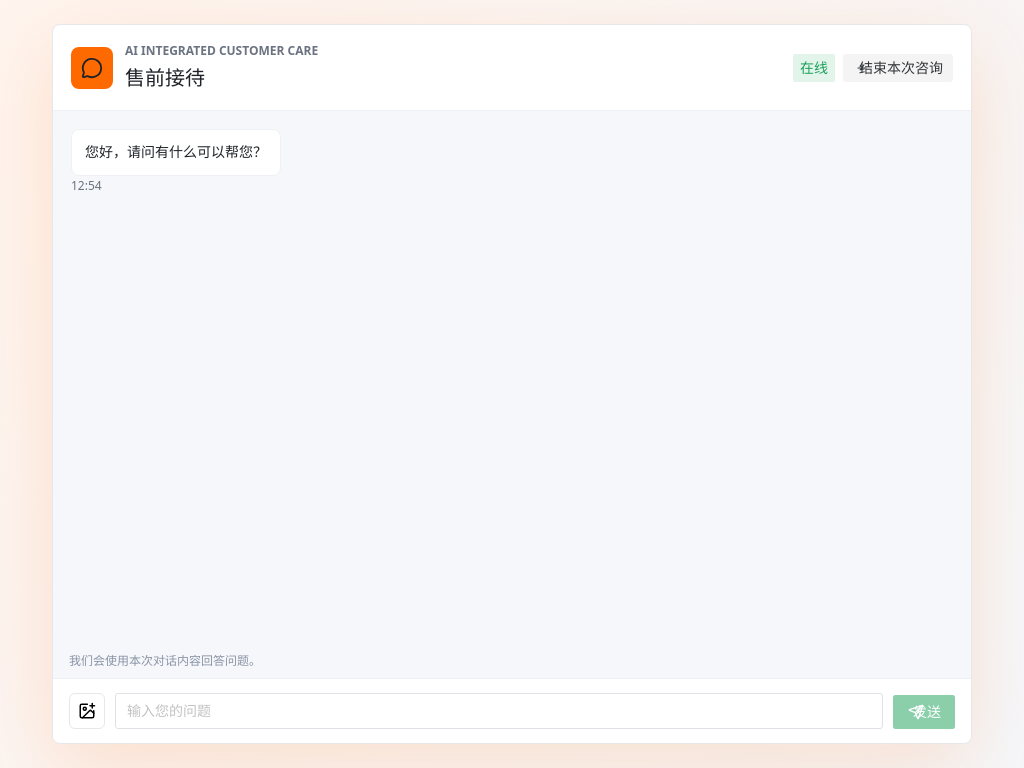
Test: PublicAICCChatPage › ends the current consultation instead of starting a new conversation
This screenshot has width=1024, height=768.
In the text box with placeholder "输入您的问题": (499, 711) [127, 693, 871, 729], type "旧会话消息"
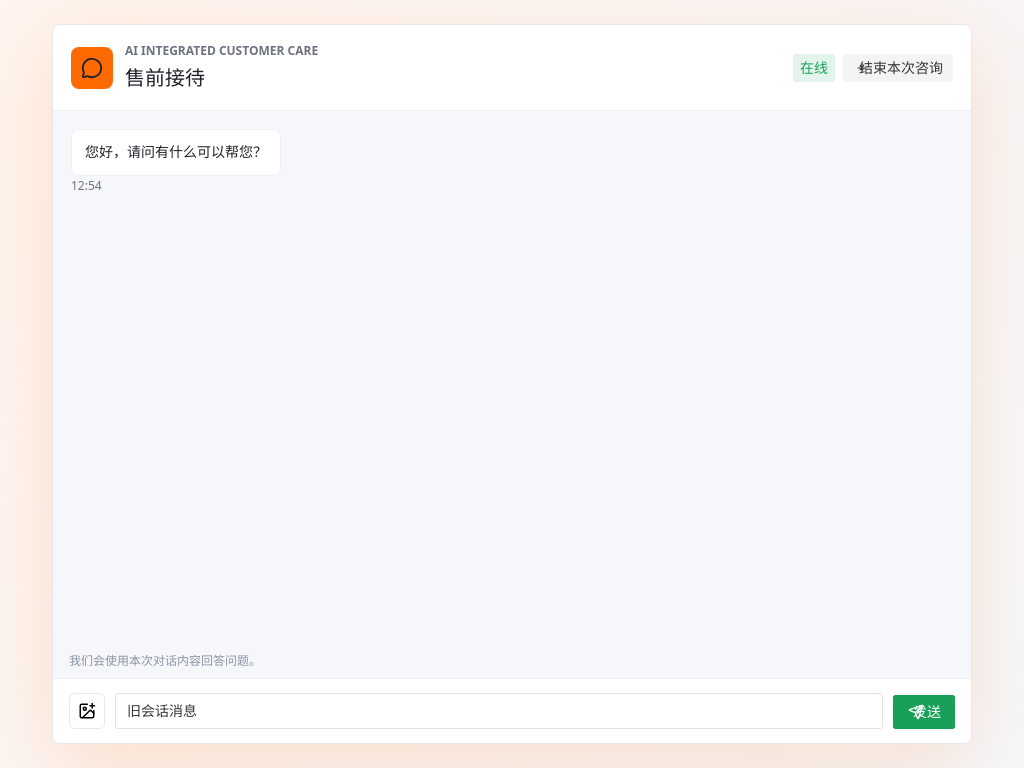
Submit the form with class "composer", box [53, 678, 971, 743]
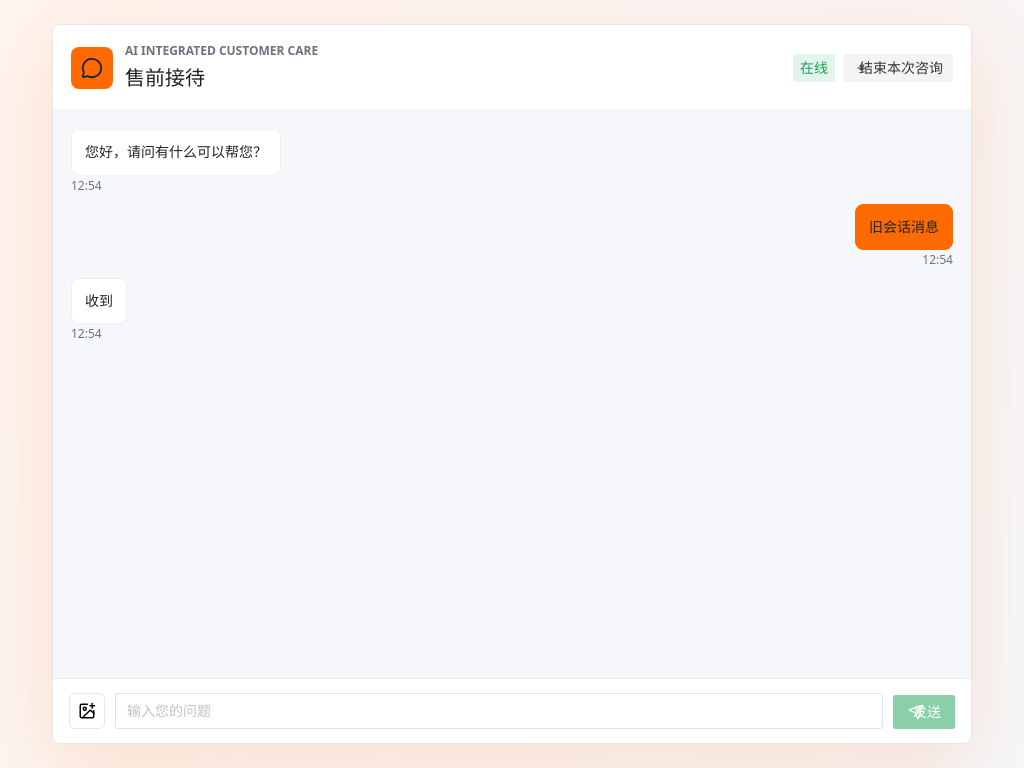
Now the text "旧会话消息" is shown, box [869, 216, 939, 238]
Click the button "结束本次咨询": click(898, 68) [843, 54, 953, 82]
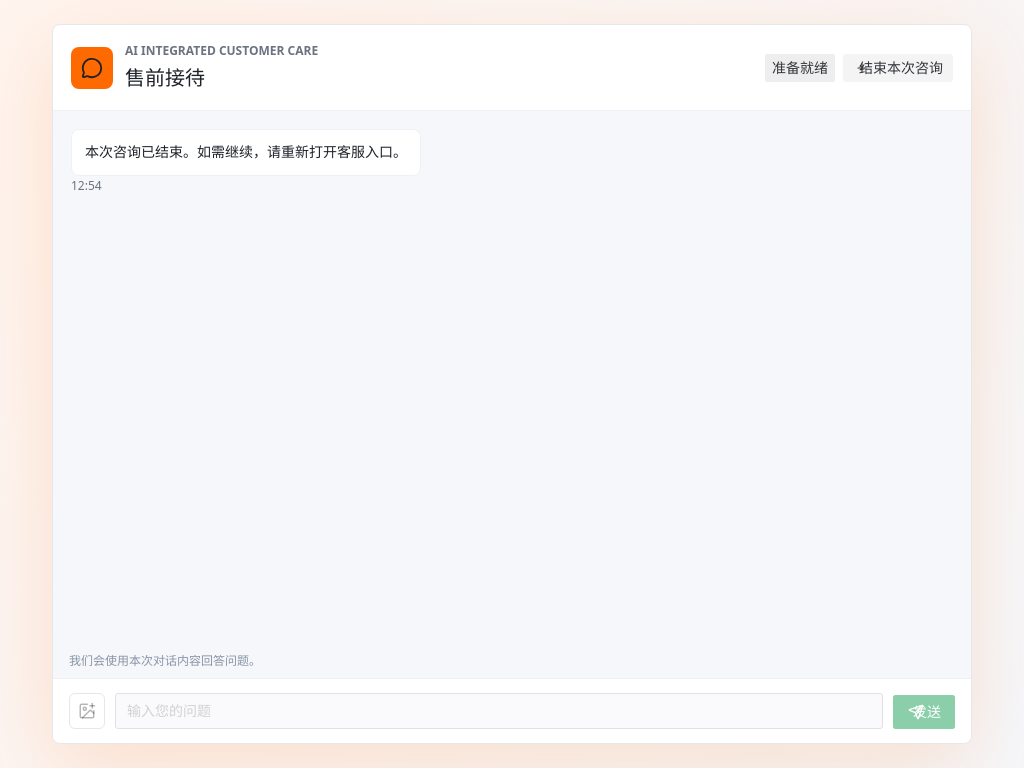
Expected: the text box with placeholder "输入您的问题" is disabled, [127, 693, 871, 729]
Now the text "旧会话消息" is gone
Now the text "本次咨询已结束" is shown, box [85, 142, 407, 161]
